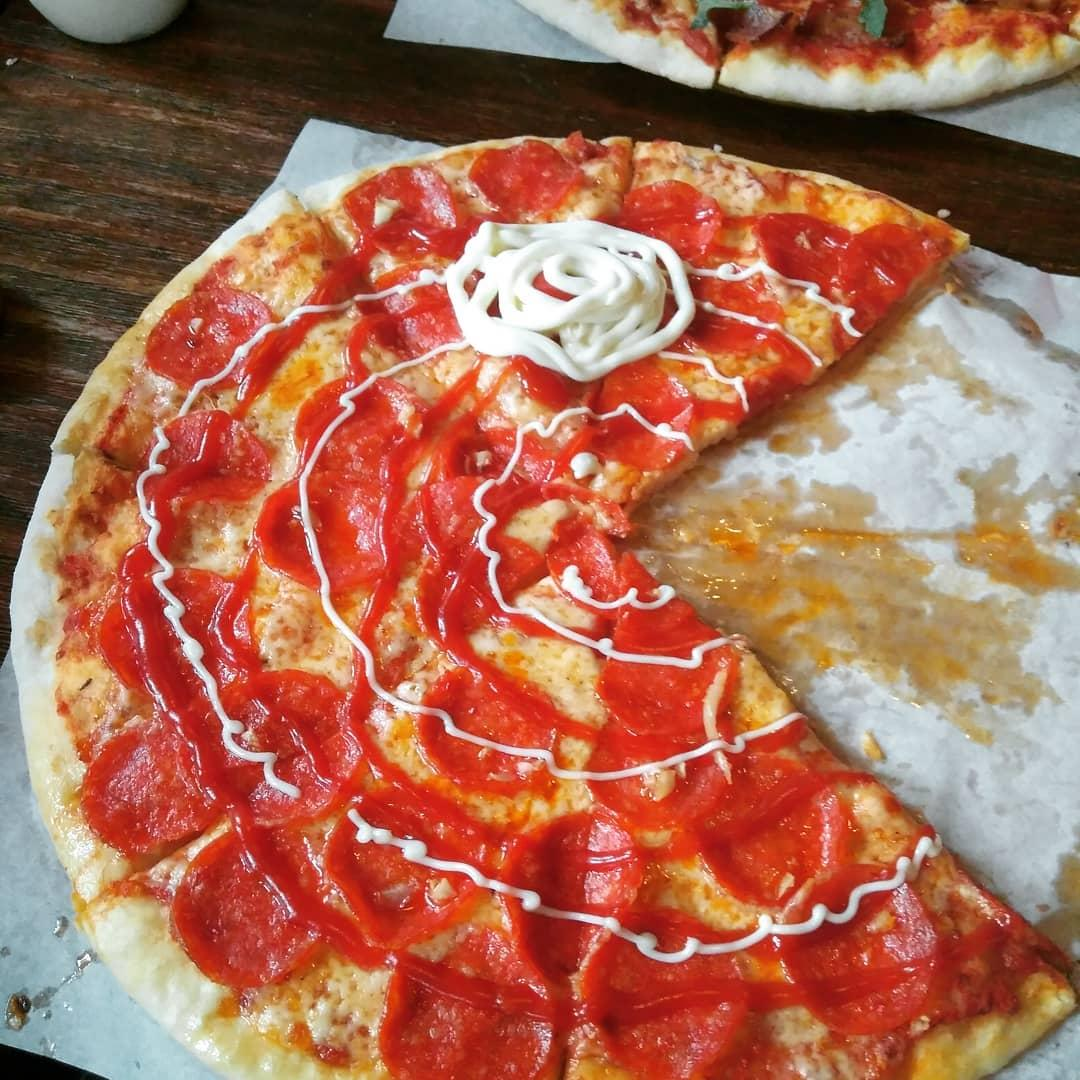Pepperoni: (584, 906, 746, 1080), (780, 870, 948, 1030), (329, 784, 498, 942), (173, 818, 327, 982), (196, 672, 366, 817), (381, 945, 554, 1080), (757, 200, 931, 332), (502, 813, 642, 976), (700, 758, 845, 904), (417, 474, 542, 636), (72, 713, 214, 845), (412, 664, 558, 788), (257, 473, 397, 594), (101, 578, 258, 685), (592, 624, 745, 729), (578, 719, 724, 826), (576, 345, 689, 462), (294, 377, 428, 473), (138, 291, 270, 387), (135, 413, 268, 505), (658, 267, 785, 351), (361, 263, 479, 351), (342, 169, 457, 254), (618, 177, 720, 259), (470, 142, 584, 213)
Pizza: (17, 128, 1080, 1080), (512, 0, 1080, 110)
